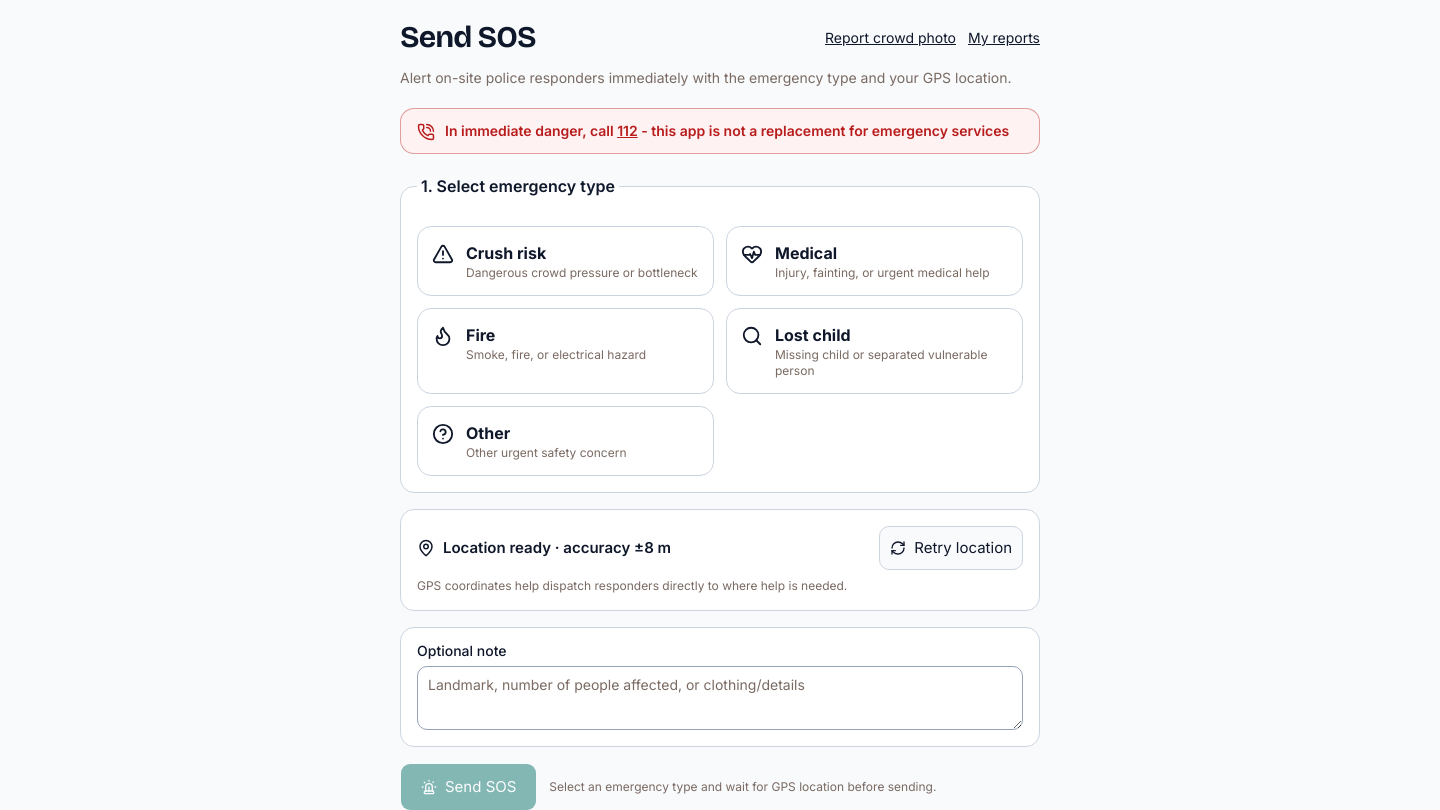
Test case: SosReportPage & MyReportsPage › requires confirmation before sending SOS, shows reference id + 112 notice, and passes axe
Expected: the element that starts with "In immediate danger, call" shows "In immediate danger, call 112 - this app is not a replacement for emergency services", [400,108,1040,154]
Click the button "Crush risk Dangerous crowd pressure or bottleneck": (506,253) [417,226,714,296]
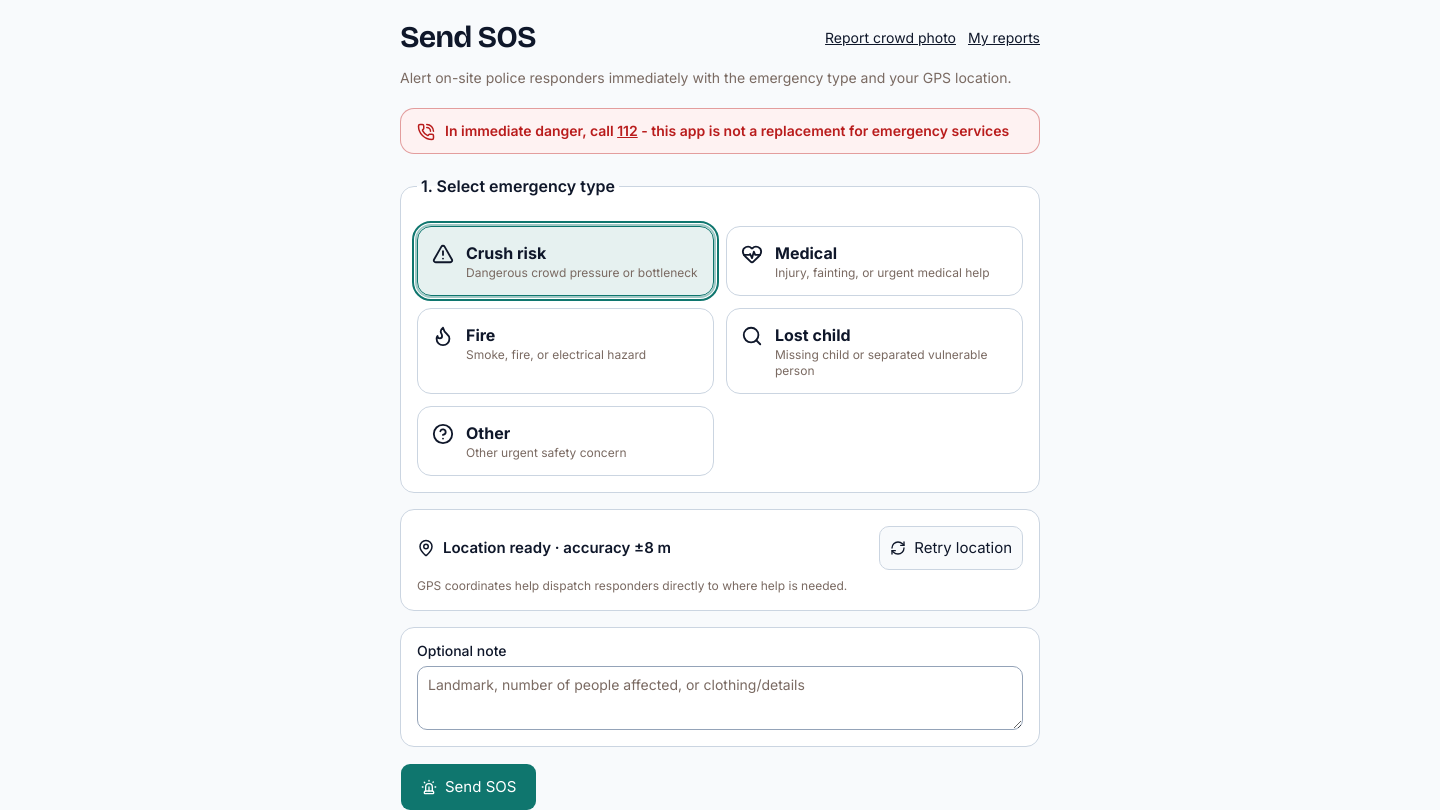
Click the button "Send SOS": (469,787) [400,763,537,809]
(page scrolled)
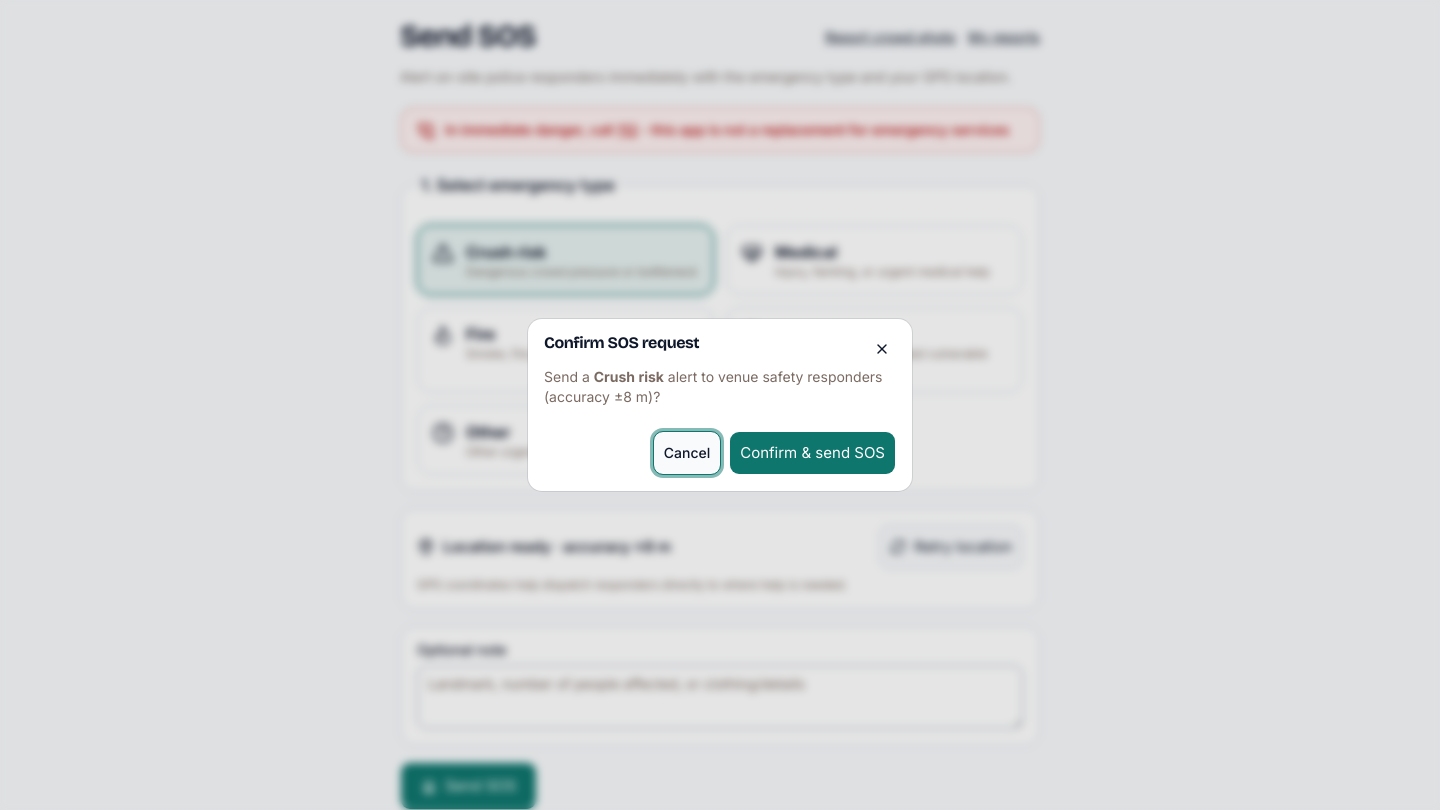
Result: the heading "Confirm SOS request" is shown at [544,333,699,352]
Click the button "Confirm & send SOS": (813,453) [729,431,896,475]
(page scrolled)
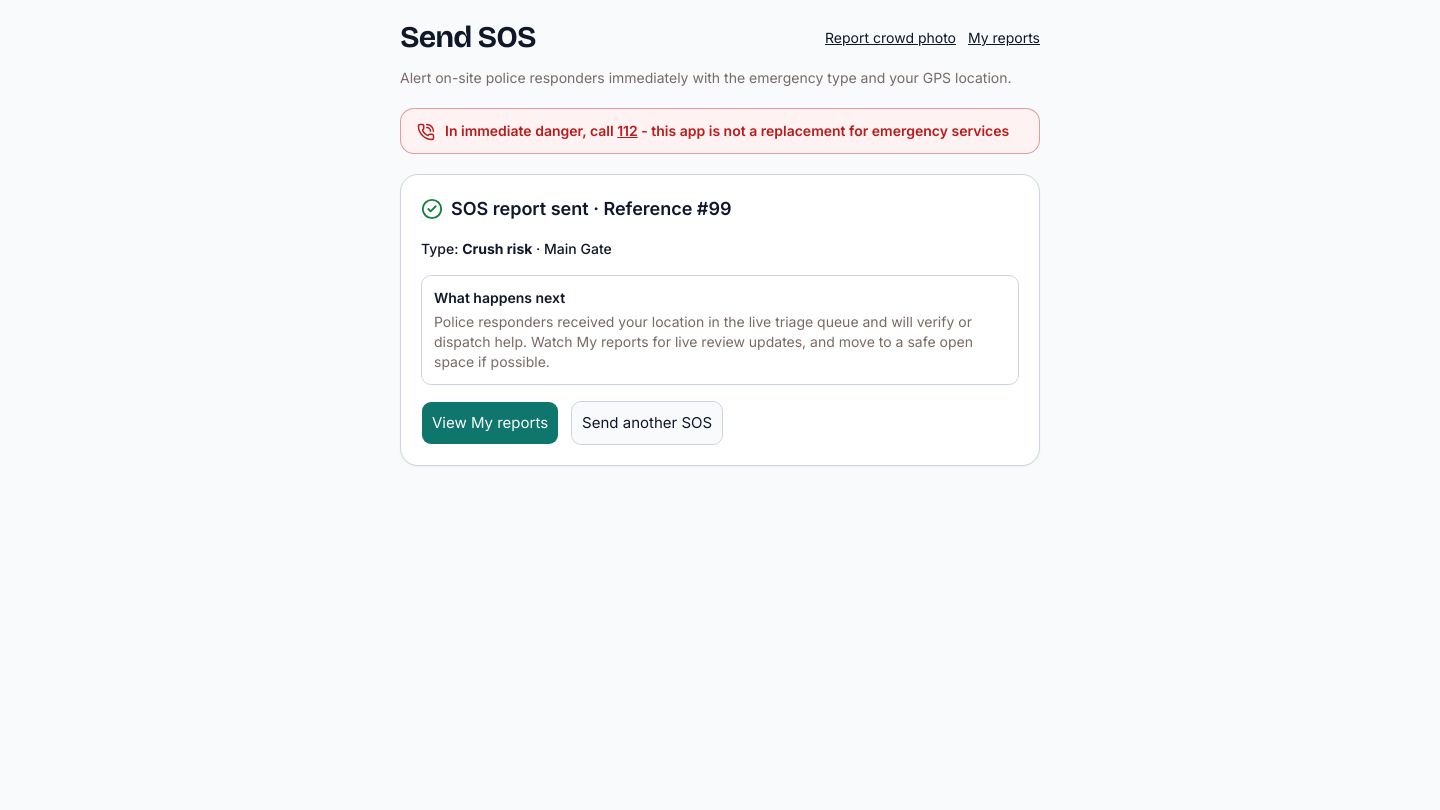
Result: the text "SOS report sent · Reference #99" is shown at [451,195,732,223]
